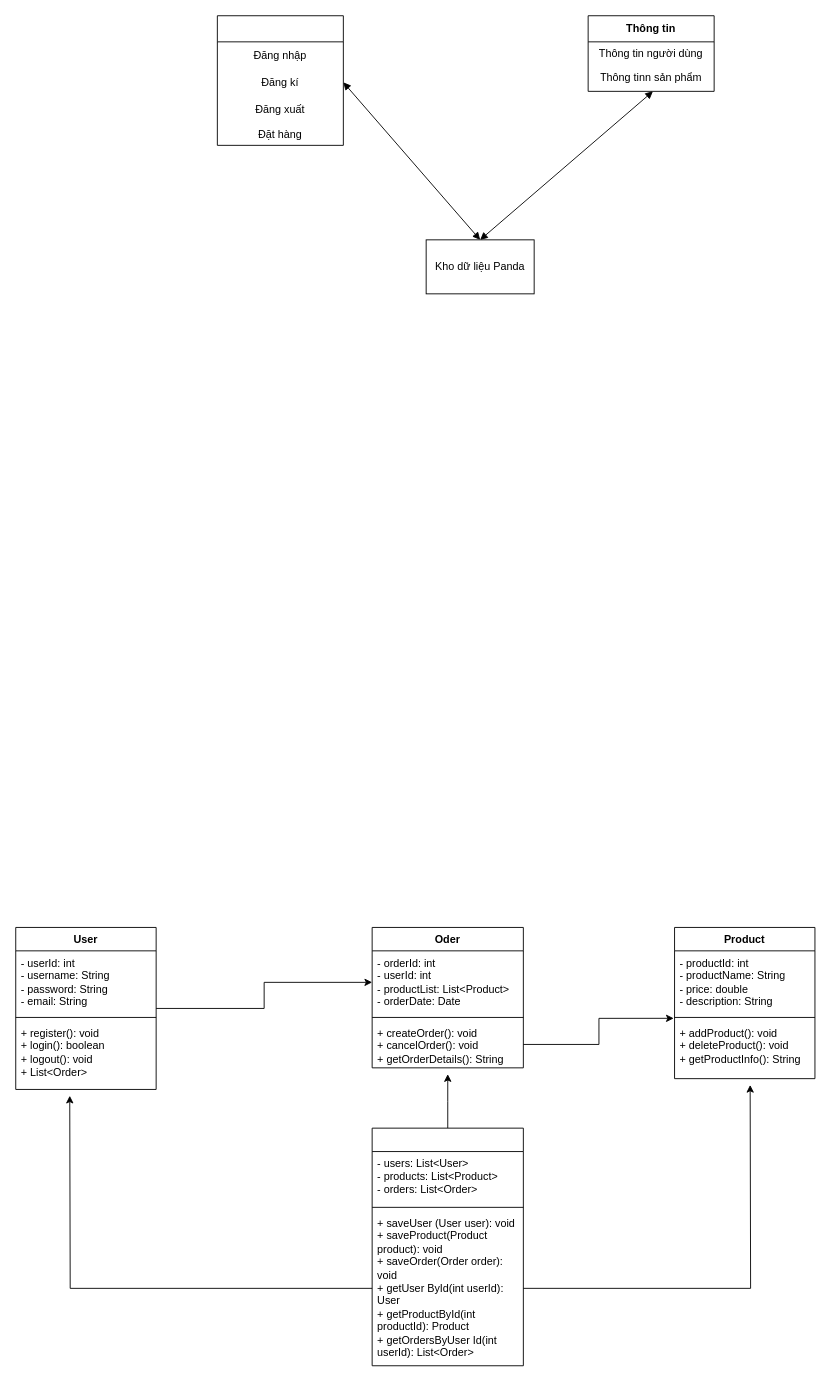
This 831x1384 diagram has some shape labels left out. The box of each missing label's shape, as (x1, y1, x2, y2) in pixels:
Database: (371, 1127, 523, 1366)
Người dùng: (216, 15, 343, 145)
